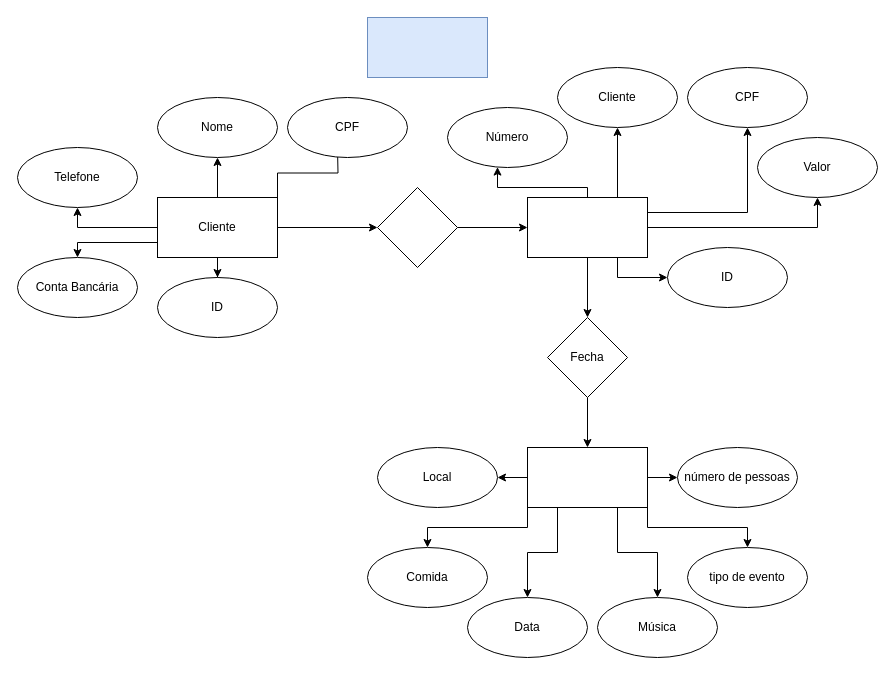
Image size: 895x675. Some labels were removed from this diagram. The shapes that lost their labels are listed below. From the top down, each one's box as (x1, y1, x2, y2) in pixels, then its label:
(366, 16, 488, 78): Grupo 6 Tawan Silva Souza Lucas Rosa Marcelo Garofalo
(376, 186, 458, 268): Solicita
(526, 196, 648, 258): Orçamento
(526, 446, 648, 508): Evento
